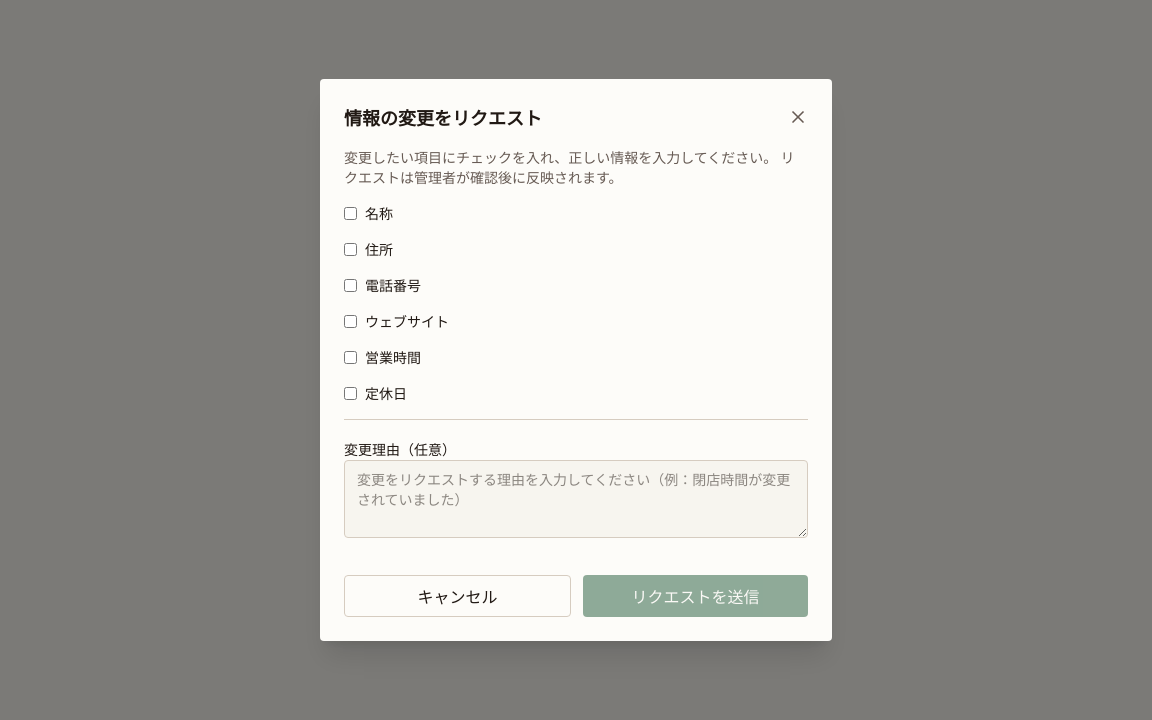
Scenario: ShopChangeRequestForm › 変更がない場合はエラーを表示する
Note: 名称をチェック（値は変更しない）
What coordinates should you click on to do the following:
click the checkbox labelled "名称"
I would click on:
 (350, 213)
Its box is [344, 206, 357, 220].
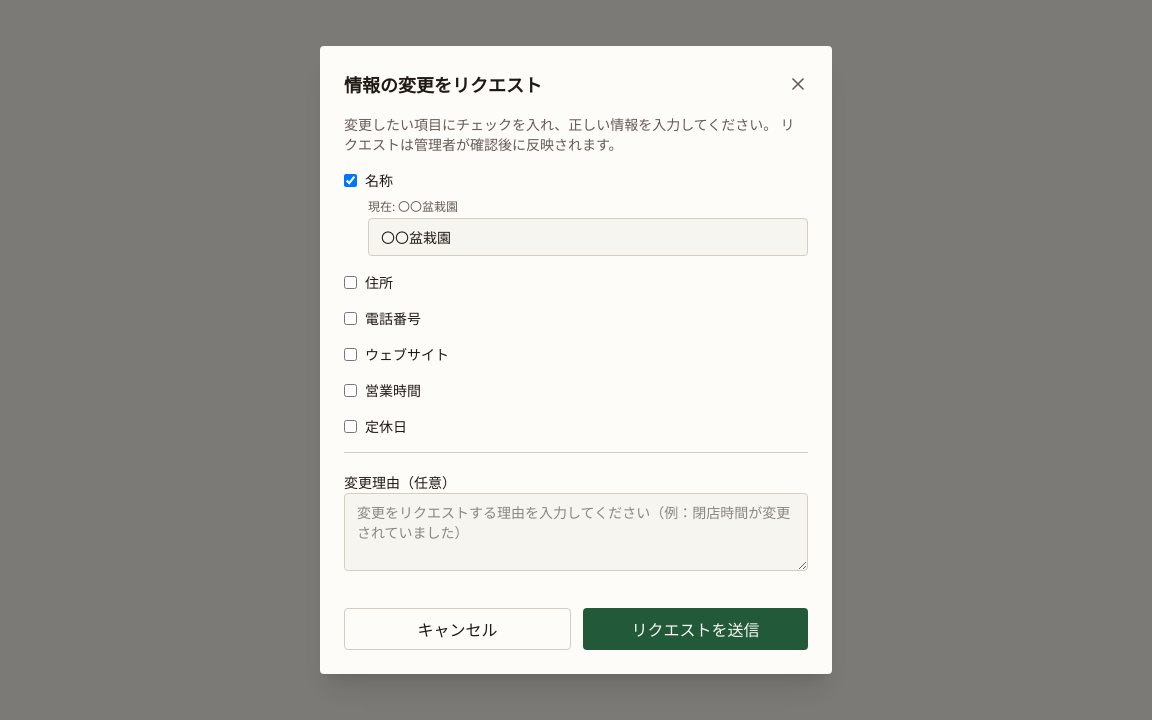
What coordinates should you click on to do the following:
click the button "リクエストを送信"
I would click on:
 (696, 629)
Its box is [583, 608, 808, 650].
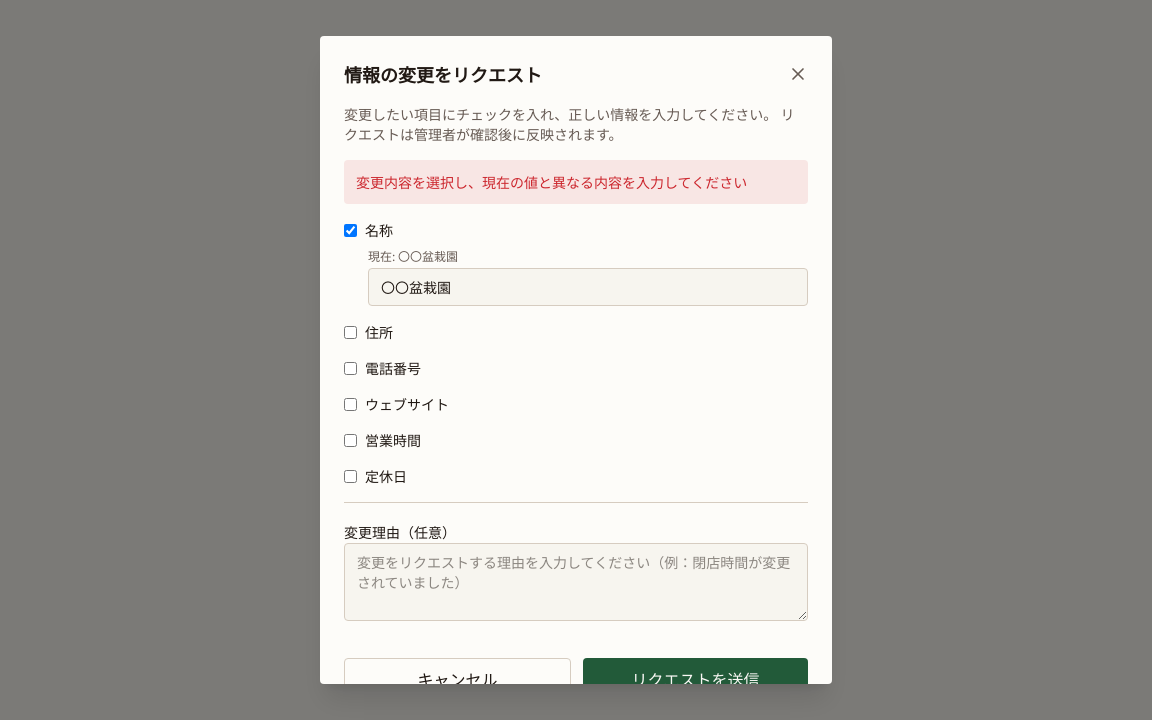
Result: the text "変更内容を選択し、現在の値と異なる内容を入力してください" is shown at [344, 160, 808, 204]
